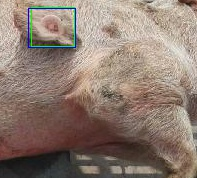text: (31, 7, 74, 46)
